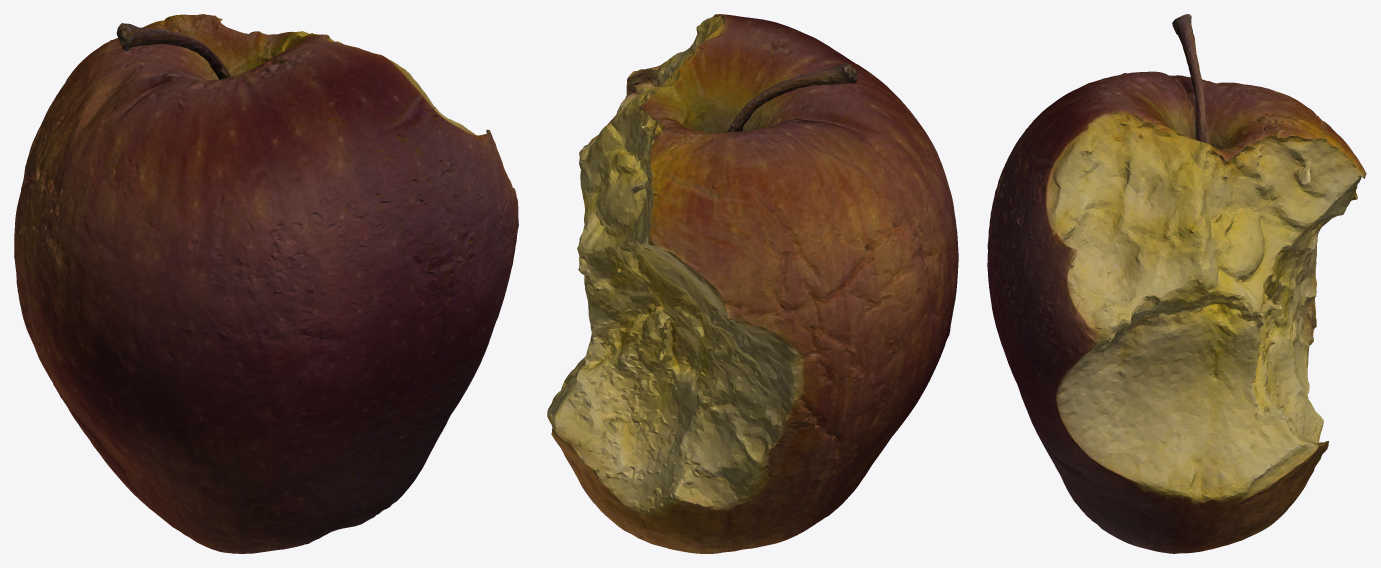
The picture shows the model from 3 angles, left to right: view 1: azimuth 30°, elevation 25°; view 2: azimuth 150°, elevation 25°; view 3: azimuth 270°, elevation 25°; orthographic projection. The views are drawn at different scales.
Parts seen in each view (by area): view 1: Apple_04_Apple_4_u1_v1_0; view 2: Apple_04_Apple_4_u1_v1_0; view 3: Apple_04_Apple_4_u1_v1_0.
Boxes of the visible parts, bbox=[...] form: Apple_04_Apple_4_u1_v1_0: bbox=[14, 14, 518, 553]; Apple_04_Apple_4_u1_v1_0: bbox=[547, 14, 958, 553]; Apple_04_Apple_4_u1_v1_0: bbox=[987, 14, 1366, 553].
Bounding box in the file's own units: 27.4 × 32.27 × 25.03.
1 material, 1 textured.
